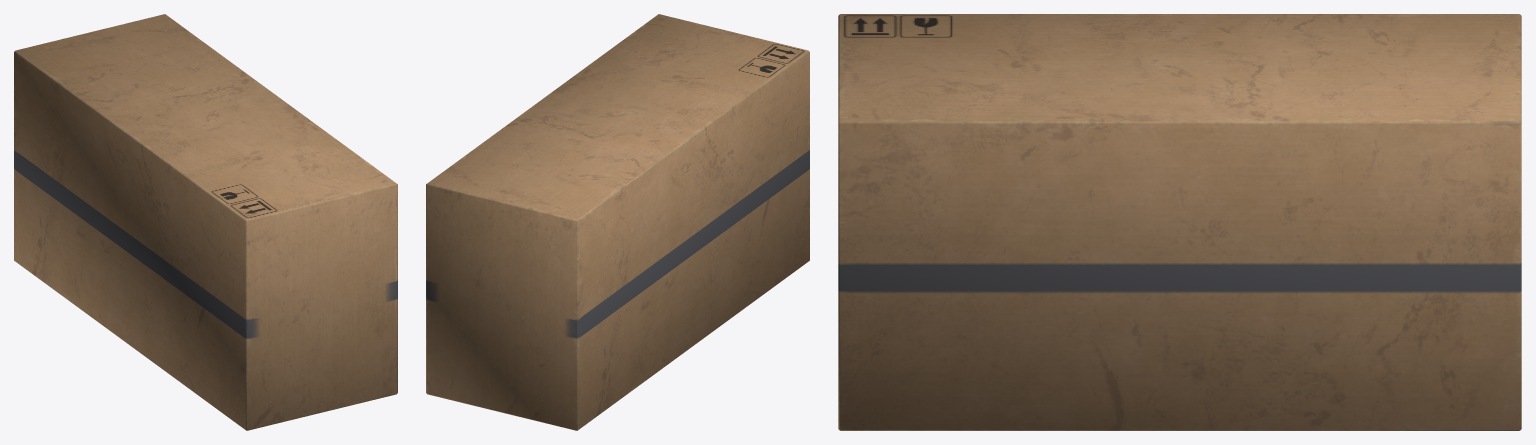
File: mediumBox.fbx
3 renders of one model, left to right at view 1: azimuth 30°, elevation 25°; view 2: azimuth 150°, elevation 25°; view 3: azimuth 270°, elevation 25°, orthographic. The views are drawn at different scales.
Parts seen in each view (by area): view 1: medium_box; view 2: medium_box; view 3: medium_box.
Part boxes in pixels (<box>): medium_box: <box>14,14,397,430</box>; medium_box: <box>426,14,809,430</box>; medium_box: <box>838,14,1521,430</box>.
Bounding box in the file's own units: 4323 × 1632 × 2162.
